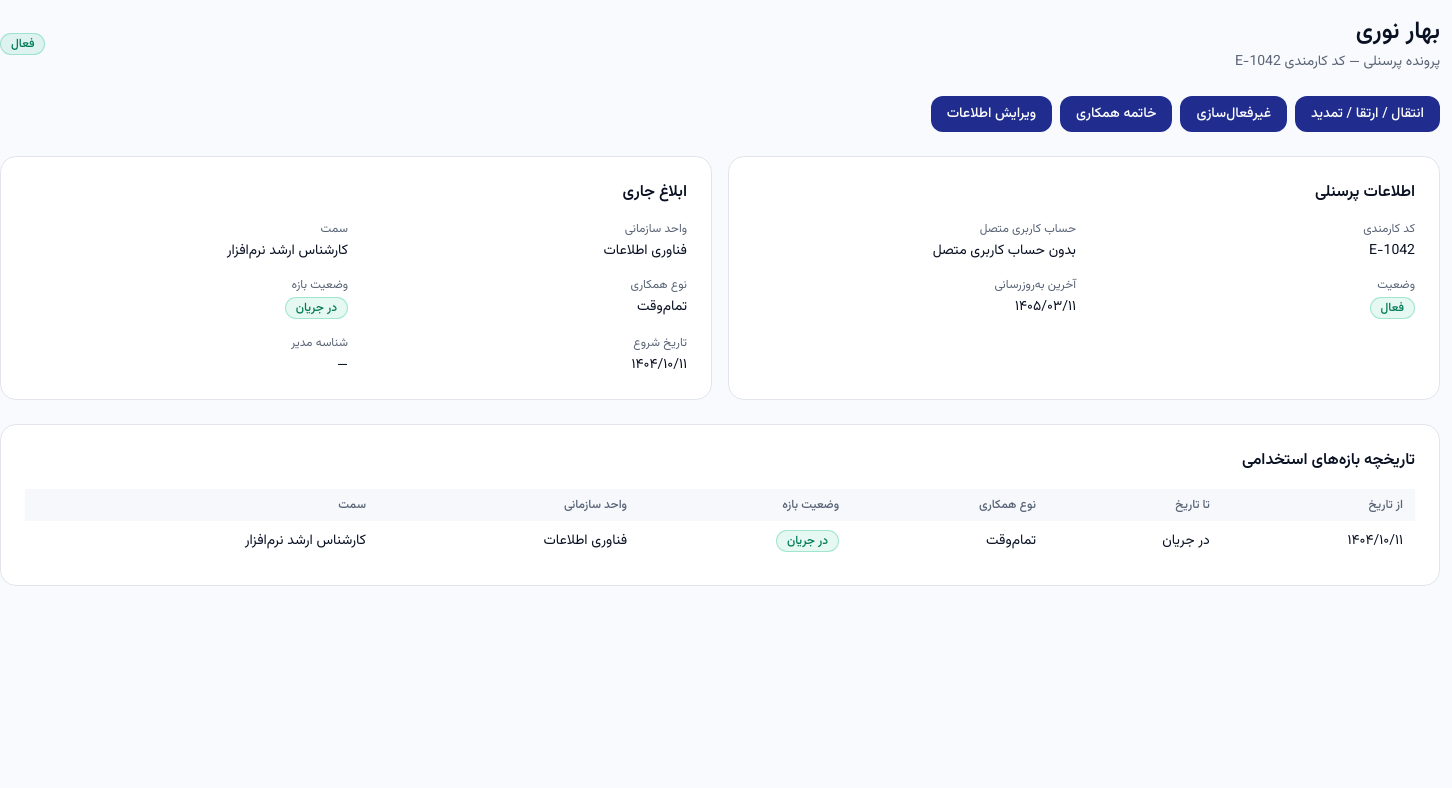
Test: HrEmployeeDetailView › terminates on a valid date and reports success
Click the button with test id "hr-detail-terminate-open": (1116, 114) [1060,96,1172,132]
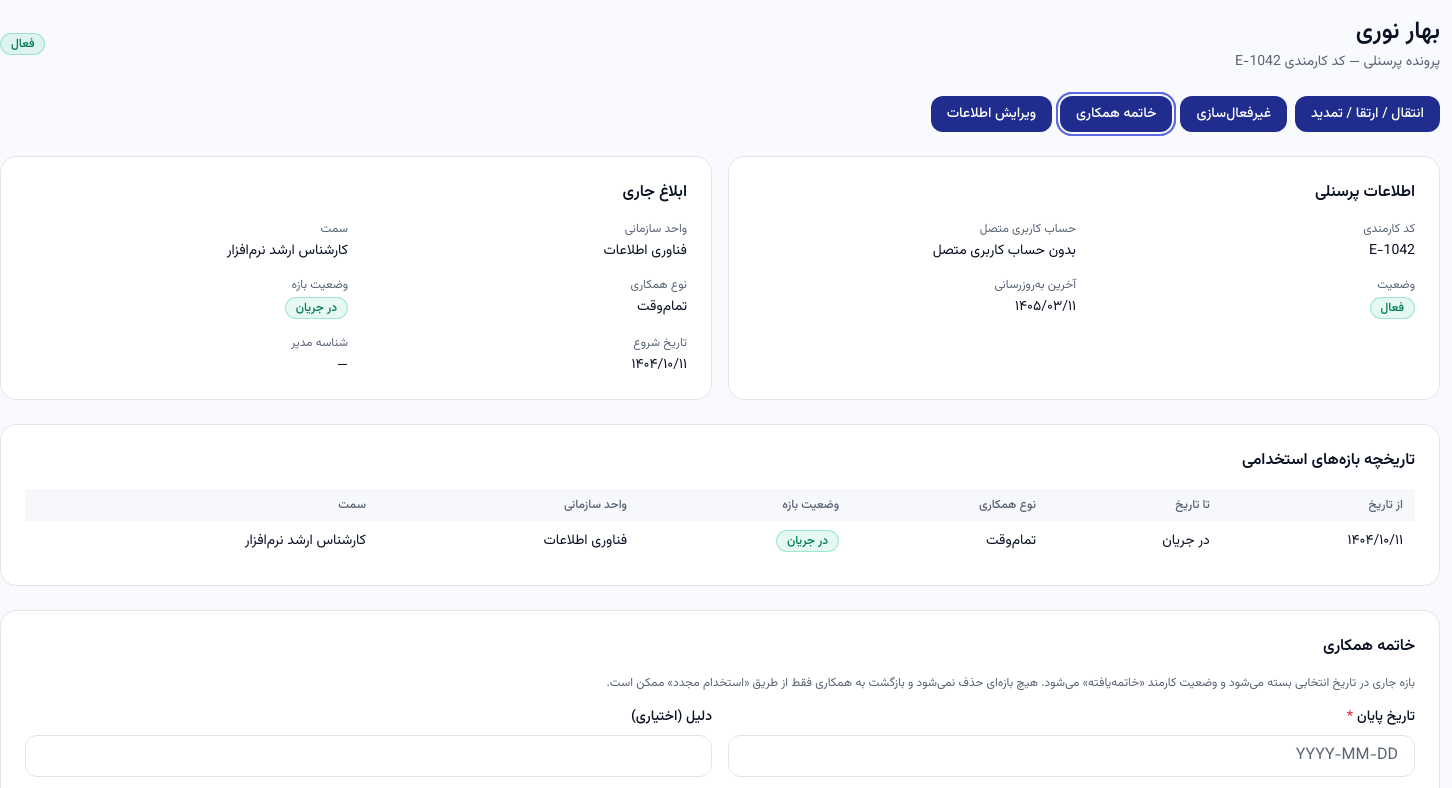
In the field with test id "hr-terminate-end-date": (1072, 756) [728,735,1415,777], type "2026-05-01"
(page scrolled)
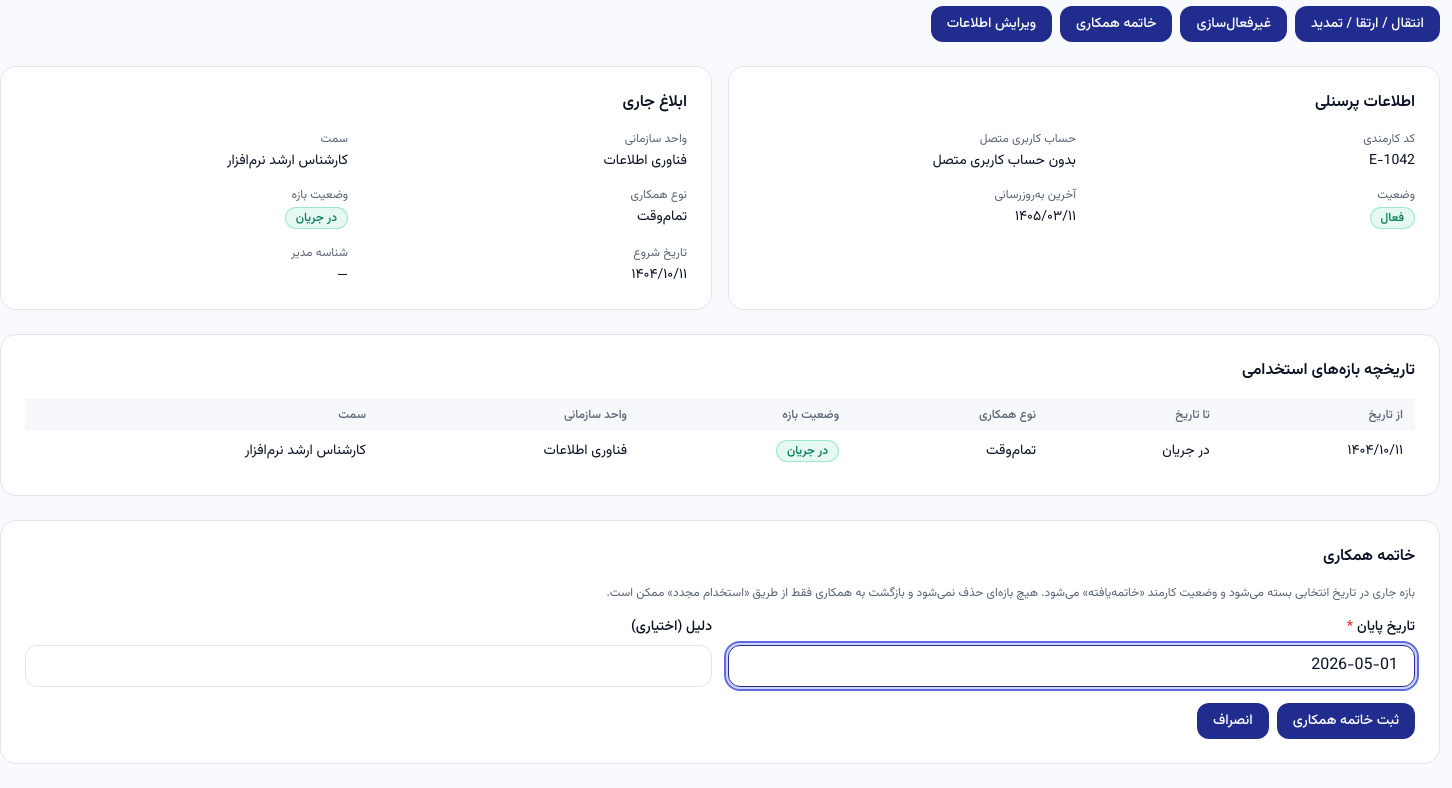
Click the button with test id "hr-terminate-submit": (1346, 721) [1277,703,1415,739]
(page scrolled)
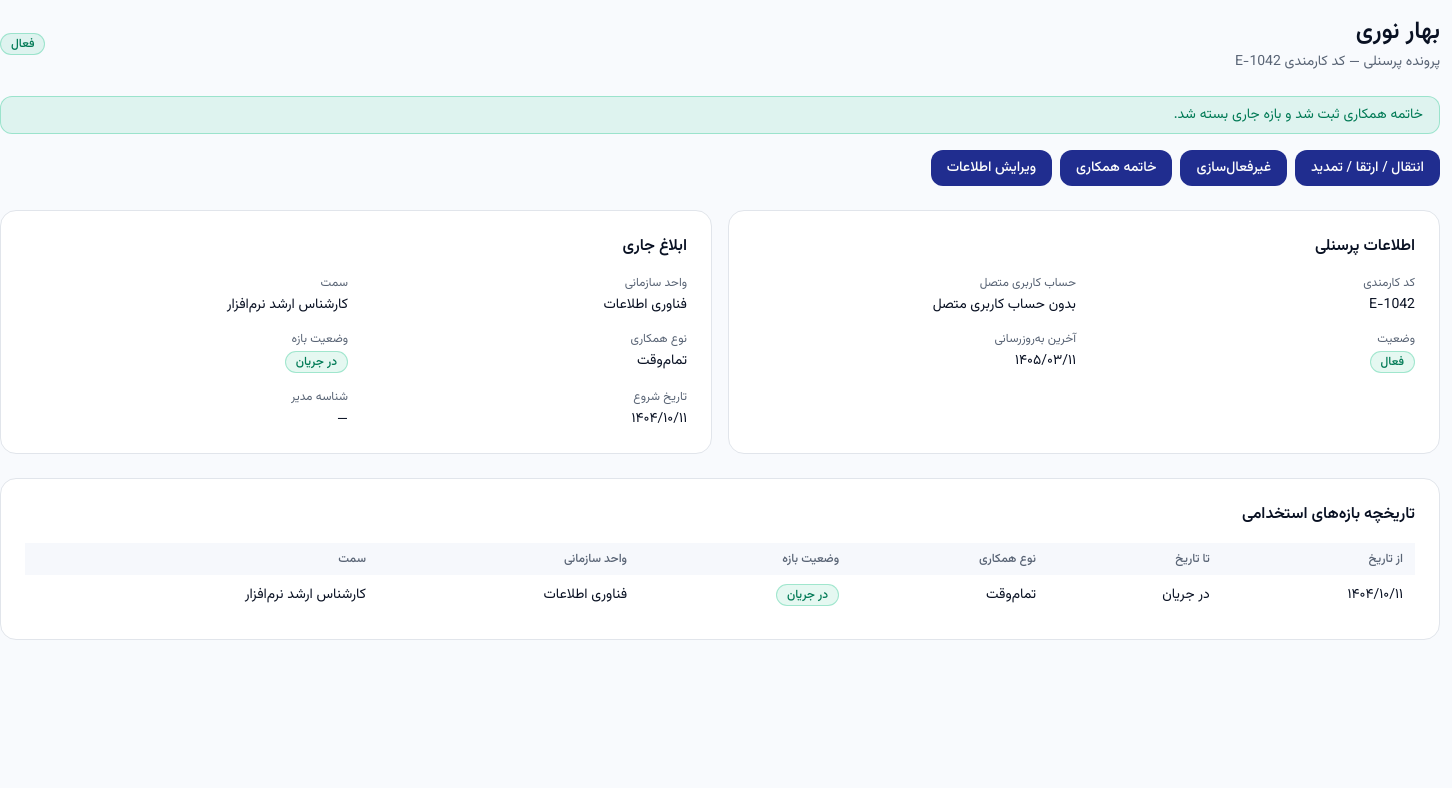
Now the message "خاتمه همکاری ثبت شد و بازه جاری بسته شد." is shown, box [0,96,1440,134]
